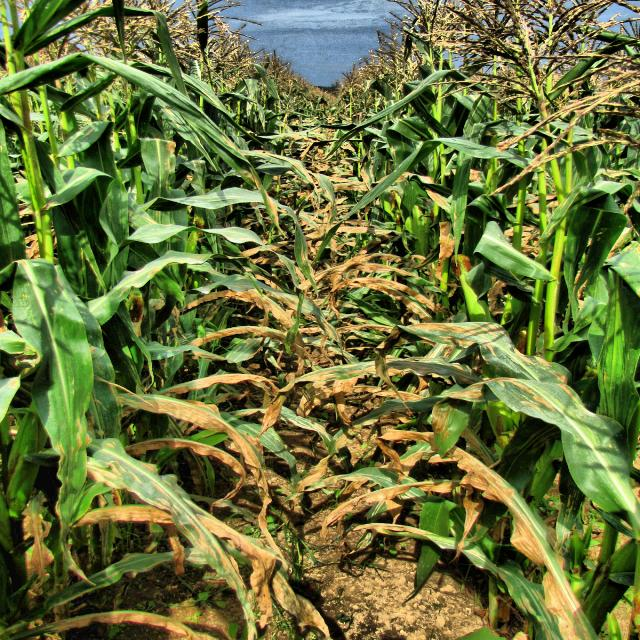blight: (316, 250, 414, 313)
